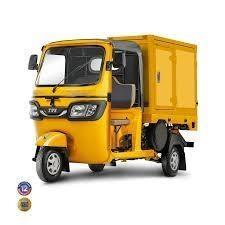keke: (30, 32, 193, 186)
